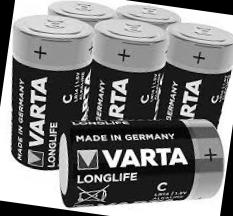battery: (38, 93, 227, 216), (0, 10, 97, 173), (74, 14, 178, 141), (155, 17, 233, 129)
